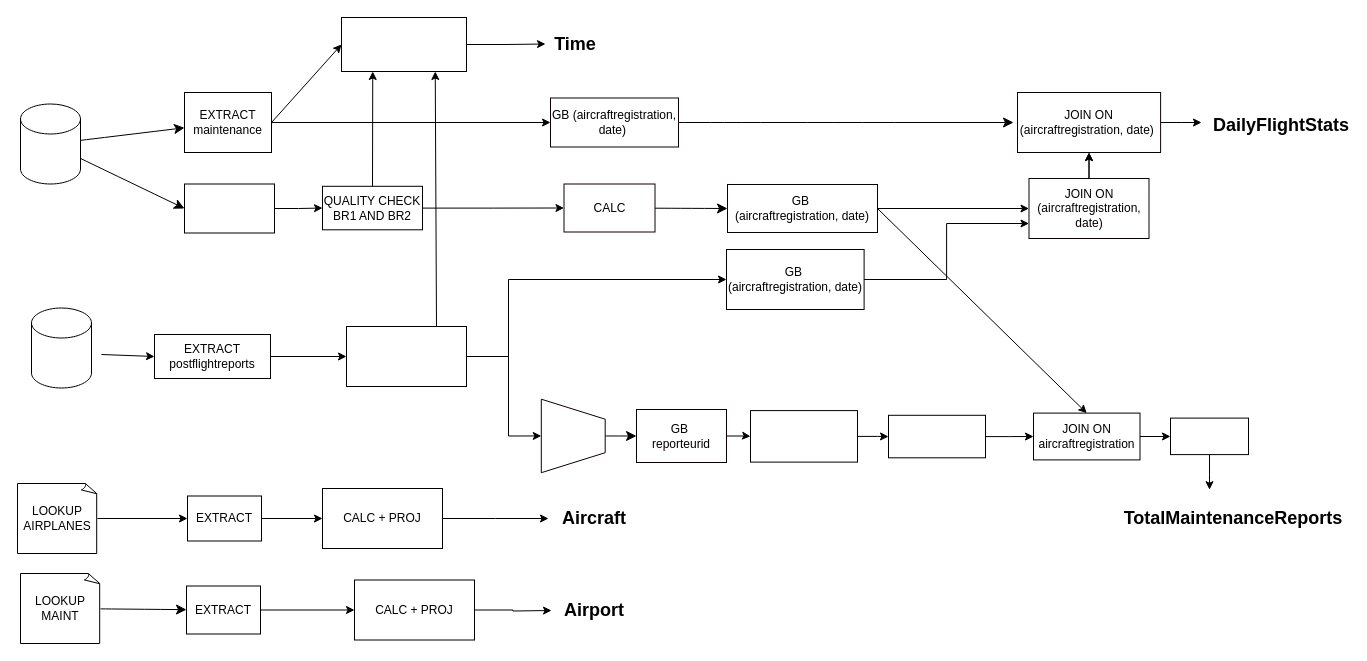
Some shapes in this 1367 by 661 pixel diagram are drawn without their labels. The centre of each missing label's shape, as x and y in pixels:
"AIMS" goes at (x=50, y=143).
"AMOS" goes at (x=61, y=347).
"EXTRACT flights" goes at (x=229, y=208).
"filter MAREP" goes at (x=572, y=435).
"GB airportcode + PROJ" goes at (x=937, y=436).
"LOOKUP MAINT (Dim table)" goes at (x=804, y=436).
"PROJ" goes at (x=1209, y=436).
"QUALITY CHECK (Aircraft Lookup Dimension)" goes at (x=406, y=356).
"UNION + PROJ + CALC" goes at (x=403, y=44).
